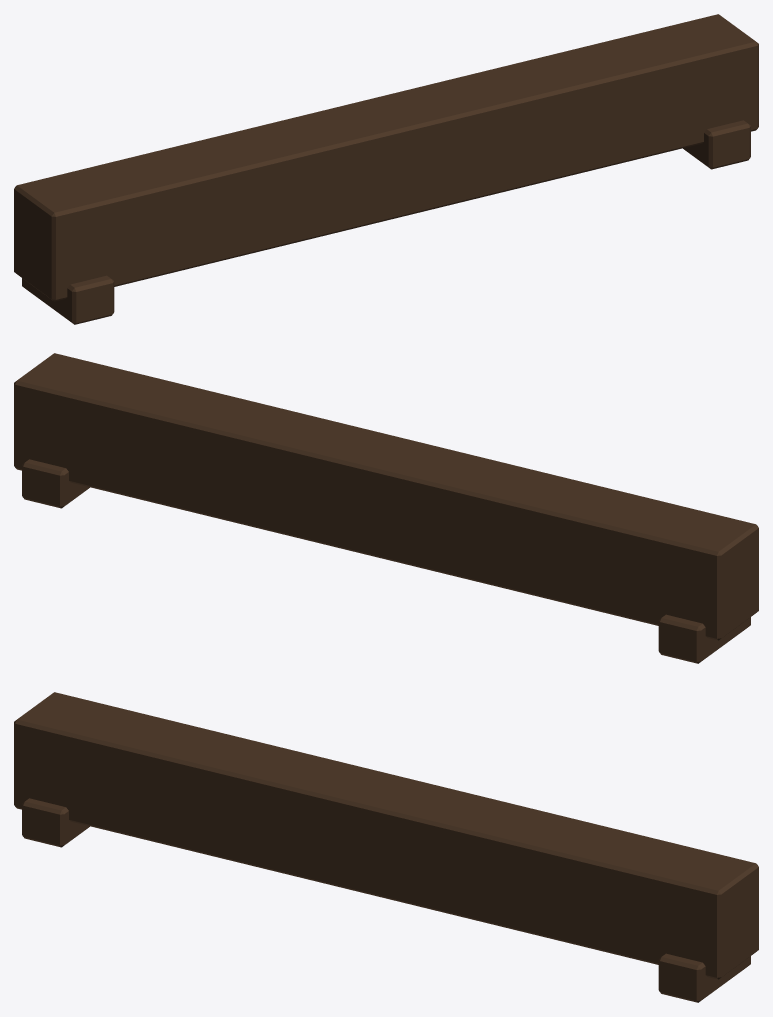
Rendered from mdvl_village_ceiling_beam_01.glb.
The picture shows the model from 3 angles, top to bottom: view 1: azimuth 30°, elevation 25°; view 2: azimuth 150°, elevation 25°; view 3: azimuth 330°, elevation 25°; orthographic projection.
Visible parts, largest first — view 1: mdvl_village_ceiling_beam_01; view 2: mdvl_village_ceiling_beam_01; view 3: mdvl_village_ceiling_beam_01.
Boxes of the visible parts, x1=… form: mdvl_village_ceiling_beam_01: x1=14, y1=14, x2=758, y2=324; mdvl_village_ceiling_beam_01: x1=14, y1=353, x2=758, y2=663; mdvl_village_ceiling_beam_01: x1=14, y1=692, x2=758, y2=1002.
Size of the model in its own units: 2 by 0.3 by 0.26.
1 material, 1 textured.
